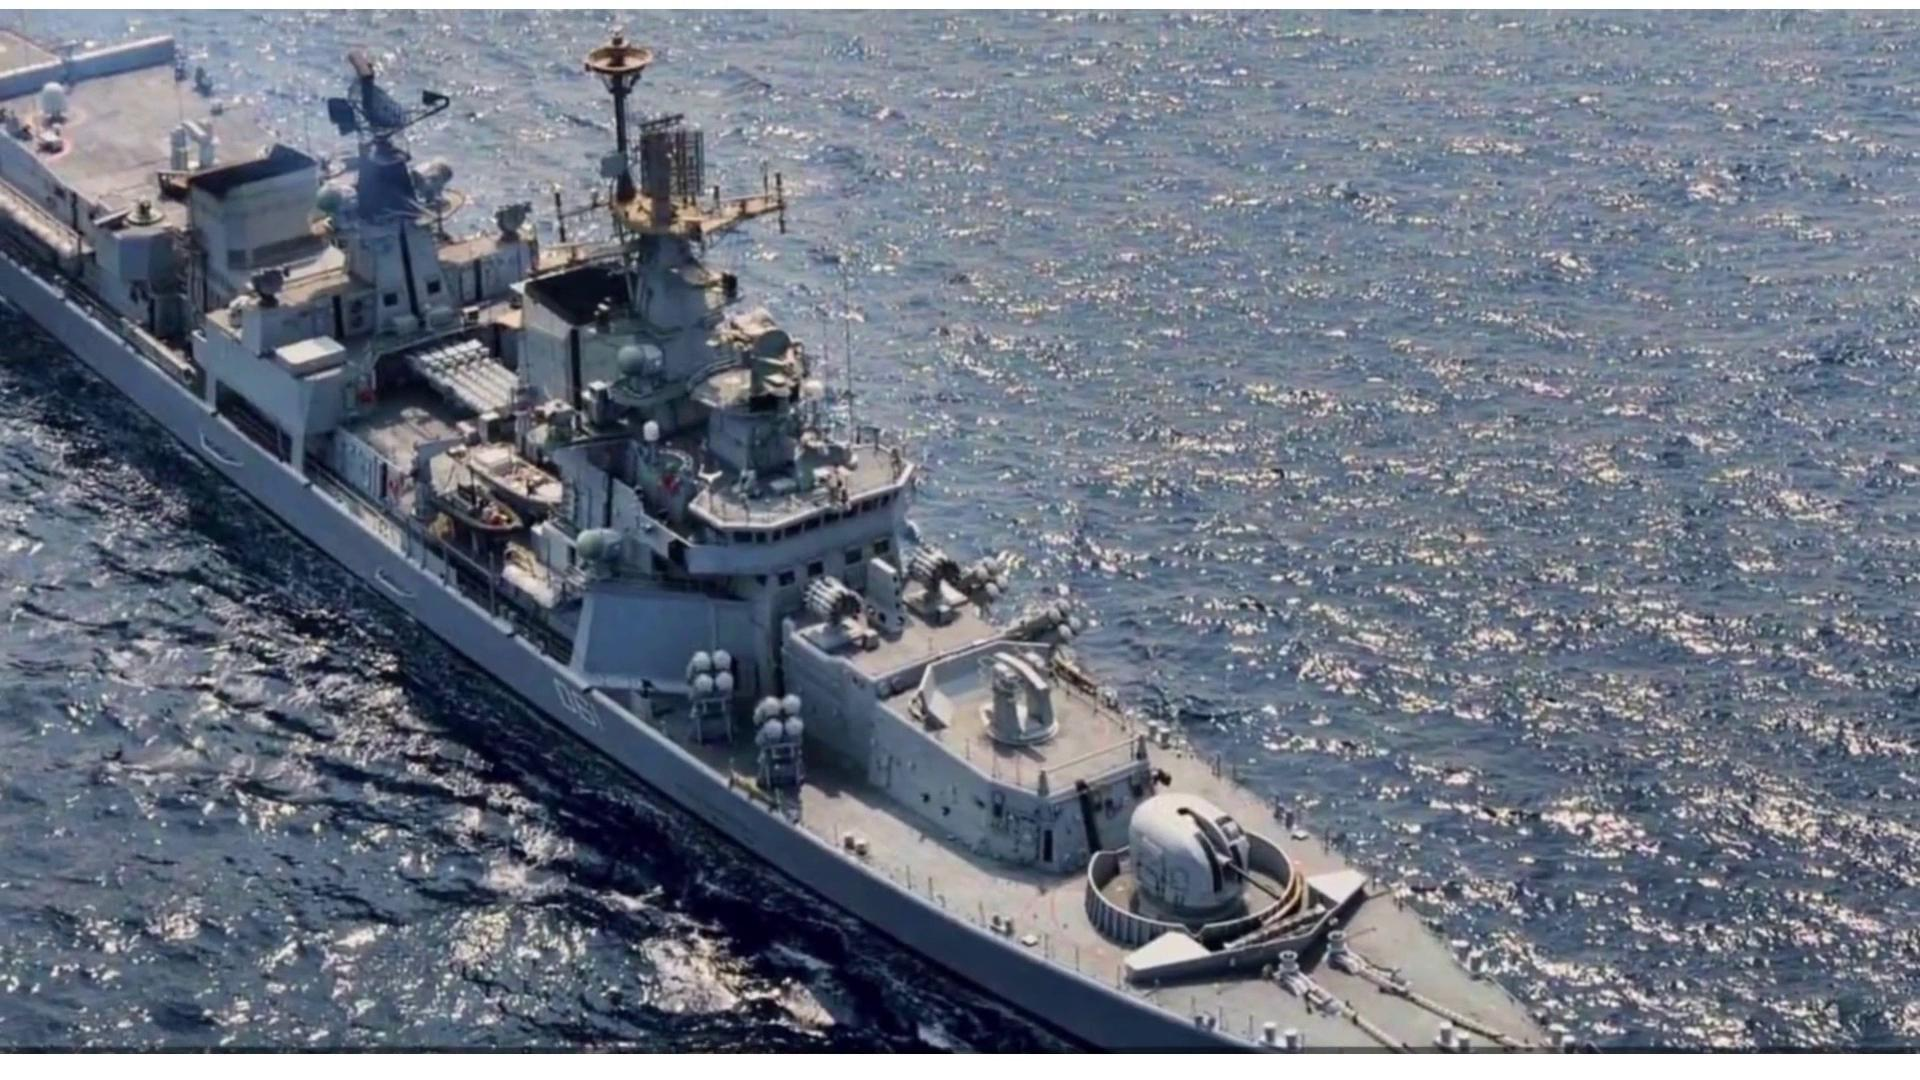OCR: (544, 669, 622, 750)
